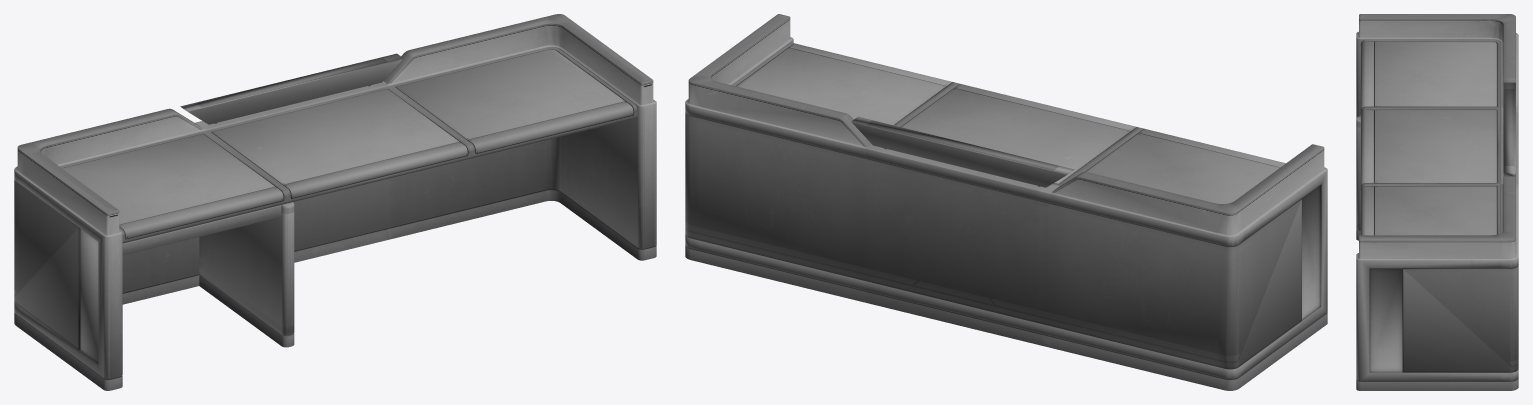
The model's file is Desk3.fbx.
3 views of the same model, side by side, from view 1: azimuth 30°, elevation 25°; view 2: azimuth 150°, elevation 25°; view 3: azimuth 270°, elevation 25° (orthographic). The views are drawn at different scales.
Parts seen in each view (by area): view 1: SM_Desk_B_v1; view 2: SM_Desk_B_v1; view 3: SM_Desk_B_v1.
Part boxes in pixels (x1,y1,x2,y2): SM_Desk_B_v1: (14, 14, 656, 390); SM_Desk_B_v1: (685, 14, 1327, 390); SM_Desk_B_v1: (1356, 14, 1518, 390).
Bounding box in the file's own units: 300 × 91.37 × 90.
